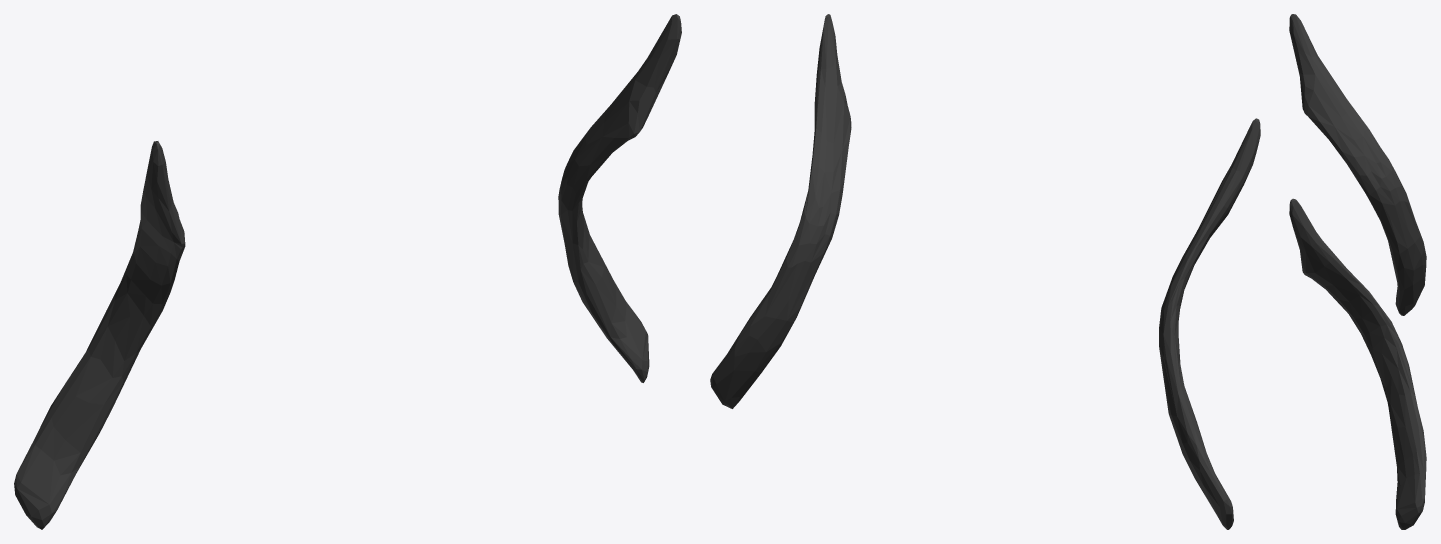
Rendered from lig_proximal_accesory.glb.
3 renders of one model, left to right at view 1: azimuth 30°, elevation 25°; view 2: azimuth 150°, elevation 25°; view 3: azimuth 270°, elevation 25°, orthographic. The views are drawn at different scales.
Parts seen in each view (by area): view 1: lig_proximal_accesory; view 2: lig_proximal_accesory; view 3: lig_proximal_accesory.
Boxes of the visible parts, x1=… form: lig_proximal_accesory: x1=14, y1=14, x2=681, y2=529; lig_proximal_accesory: x1=710, y1=14, x2=1260, y2=529; lig_proximal_accesory: x1=1289, y1=14, x2=1426, y2=529.
Bounding box in the file's own units: 0.00336 × 0.0022 × 0.000864.
Materials: 1 (1 with a texture image).
